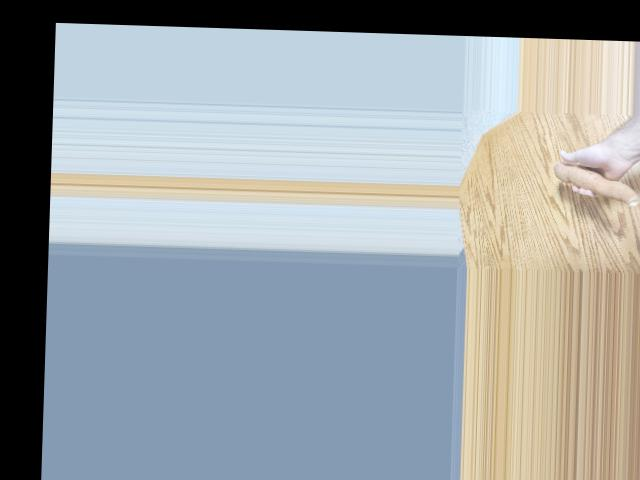sweet_potato: (552, 161, 640, 206)
